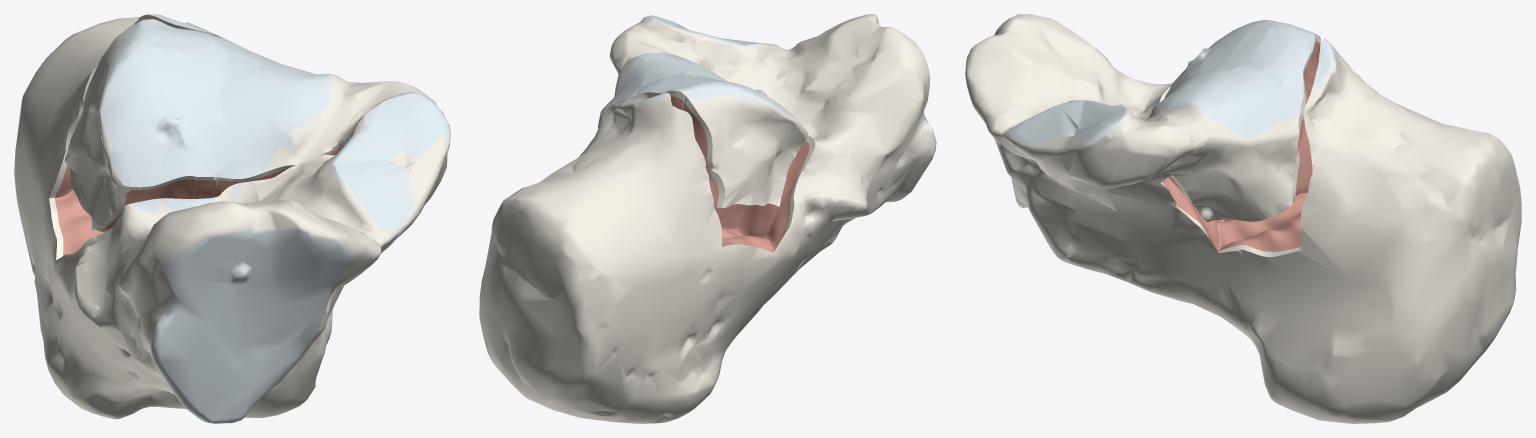
File: 82C3_young.glb
3 renders of one model, left to right at view 1: azimuth 30°, elevation 25°; view 2: azimuth 150°, elevation 25°; view 3: azimuth 270°, elevation 25°, orthographic. The views are drawn at different scales.
Parts seen in each view (by area): view 1: calcaneus: anterior process fragment, calcaneus: tuberosity, calcaneus: lateral joint fragment, calcaneus: sustentacular fragment, calcaneus: central depressed fragment 2, calcaneus: central depressed fragment 1, calcaneus: medial joint fragment; view 2: calcaneus: tuberosity, calcaneus: anterior process fragment, calcaneus: lateral joint fragment, calcaneus: sustentacular fragment, calcaneus: medial joint fragment, calcaneus: central depressed fragment 1, calcaneus: central depressed fragment 2; view 3: calcaneus: tuberosity, calcaneus: anterior process fragment, calcaneus: medial joint fragment, calcaneus: sustentacular fragment, calcaneus: central depressed fragment 1, calcaneus: central depressed fragment 2, calcaneus: lateral joint fragment.
Boxes of the visible parts, <box> form: calcaneus: anterior process fragment: <box>119,161,439,423</box>; calcaneus: tuberosity: <box>14,14,351,419</box>; calcaneus: lateral joint fragment: <box>65,25,196,232</box>; calcaneus: sustentacular fragment: <box>93,81,450,417</box>; calcaneus: central depressed fragment 2: <box>209,40,297,198</box>; calcaneus: central depressed fragment 1: <box>134,19,231,198</box>; calcaneus: medial joint fragment: <box>222,38,363,164</box>; calcaneus: tuberosity: <box>479,47,867,423</box>; calcaneus: anterior process fragment: <box>722,14,936,206</box>; calcaneus: lateral joint fragment: <box>683,80,807,208</box>; calcaneus: sustentacular fragment: <box>609,15,884,255</box>; calcaneus: medial joint fragment: <box>598,33,703,128</box>; calcaneus: central depressed fragment 1: <box>630,73,757,110</box>; calcaneus: central depressed fragment 2: <box>635,63,727,92</box>; calcaneus: tuberosity: <box>1110,38,1521,423</box>; calcaneus: anterior process fragment: <box>965,14,1110,262</box>; calcaneus: medial joint fragment: <box>1134,81,1312,222</box>; calcaneus: sustentacular fragment: <box>1062,61,1202,276</box>; calcaneus: central depressed fragment 1: <box>1166,30,1318,98</box>; calcaneus: central depressed fragment 2: <box>1144,68,1293,120</box>; calcaneus: lateral joint fragment: <box>1170,20,1320,88</box>.
Bounding box in the file's own units: 0.0475 × 0.0513 × 0.0757.
